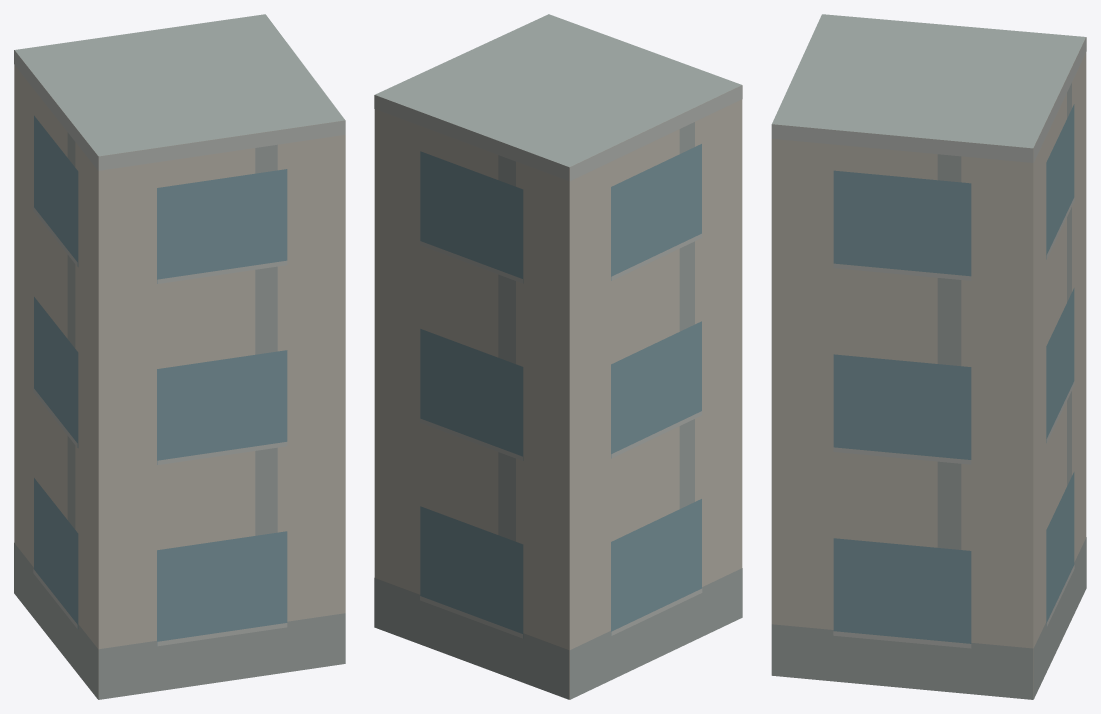
The model's file is survey-upis-32744923.glb.
3 views of the same model, side by side, from view 1: azimuth 30°, elevation 25°; view 2: azimuth 150°, elevation 25°; view 3: azimuth 270°, elevation 25° (orthographic). The views are drawn at different scales.
Visible parts, largest first — view 1: survey-upis-32744923.tmp; view 2: survey-upis-32744923.tmp; view 3: survey-upis-32744923.tmp.
Part boxes in pixels (<box>): survey-upis-32744923.tmp: <box>14,14,345,699</box>; survey-upis-32744923.tmp: <box>374,14,742,699</box>; survey-upis-32744923.tmp: <box>771,14,1086,699</box>.
Size of the model in its own units: 4.79 by 9.15 by 4.74.
